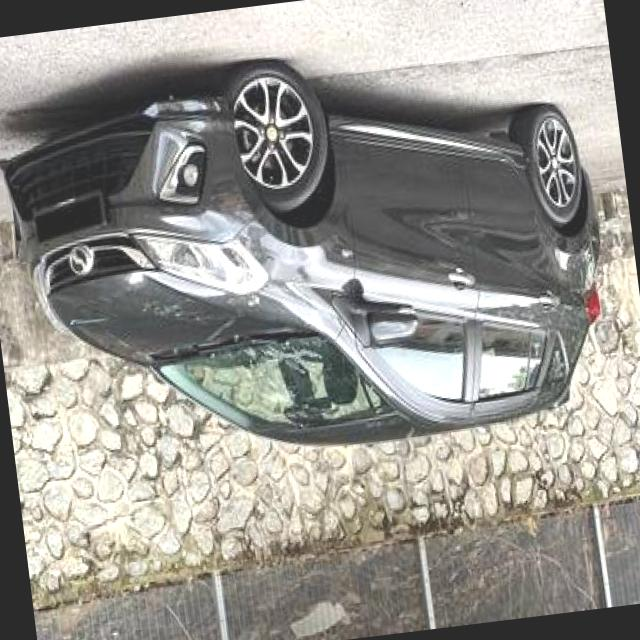PeroduaMyvi: (0, 21, 623, 489)
